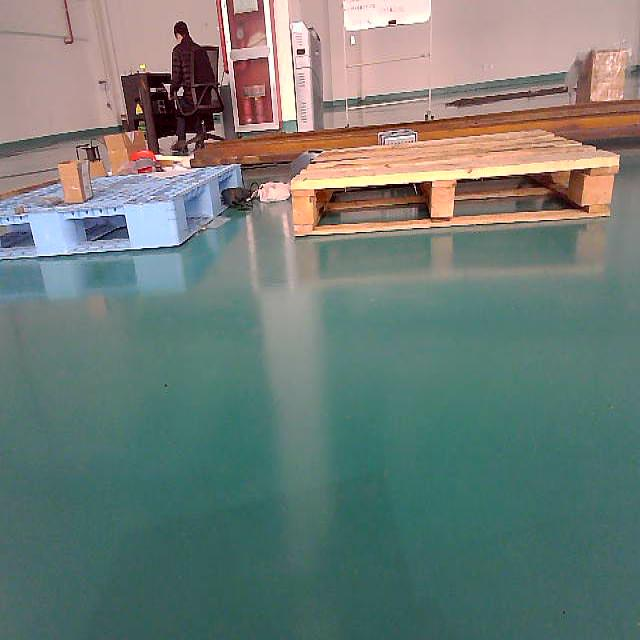euro: (285, 112, 640, 274)
